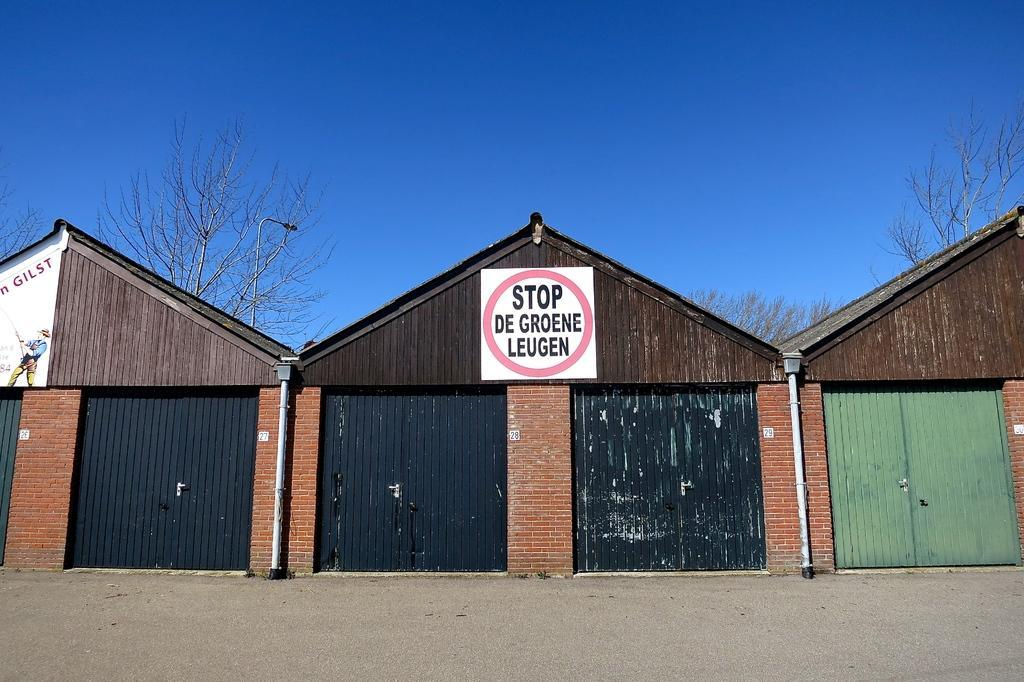door: (900, 386, 1007, 562), (575, 390, 679, 559), (328, 396, 418, 579), (418, 397, 510, 573), (166, 394, 252, 566), (826, 388, 910, 558), (78, 404, 160, 572), (676, 393, 754, 567)
